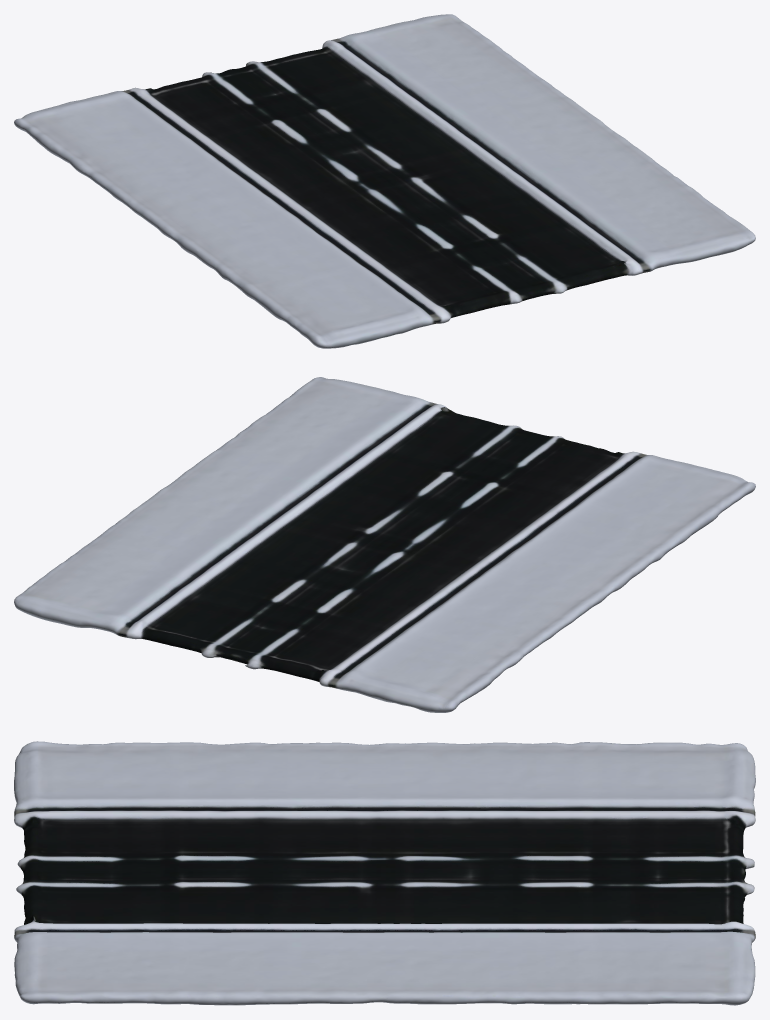
The model's file is properroad.glb.
The picture shows the model from 3 angles, top to bottom: view 1: azimuth 30°, elevation 25°; view 2: azimuth 150°, elevation 25°; view 3: azimuth 270°, elevation 25°; orthographic projection. The views are drawn at different scales.
Visible parts, largest first — view 1: high_poly; view 2: high_poly; view 3: high_poly.
Part boxes in pixels (x1,y1,x2,y2): high_poly: [14, 14, 755, 348]; high_poly: [14, 377, 755, 712]; high_poly: [14, 741, 755, 1005].
Size of the model in its own units: 0.8139 by 0.0302 by 1.
1 material, 1 textured.
